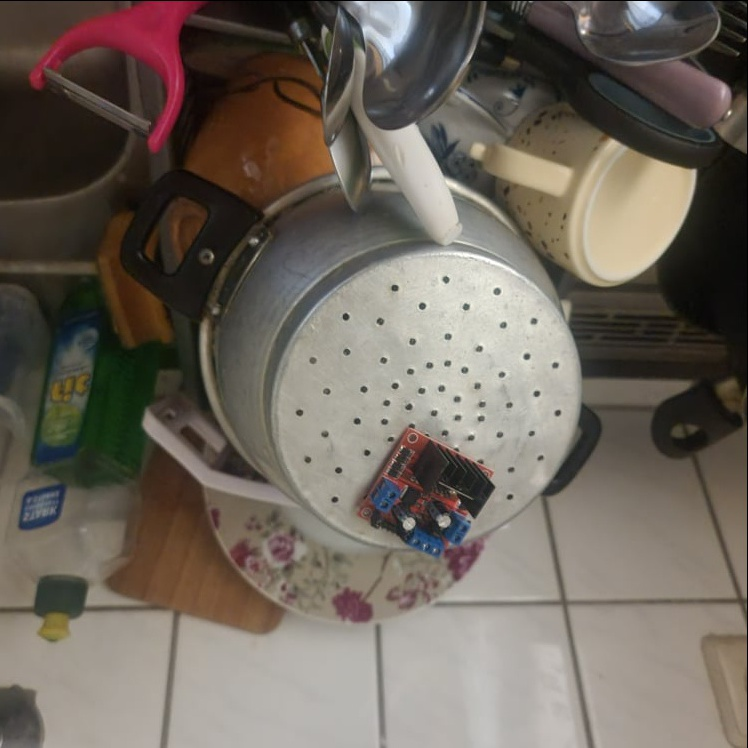MOTOR: (357, 422, 500, 557)
